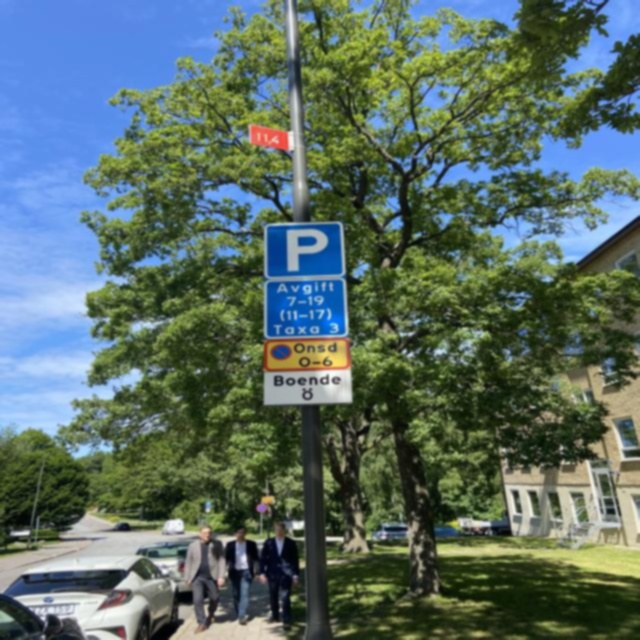P-skylt: (261, 221, 350, 281)
